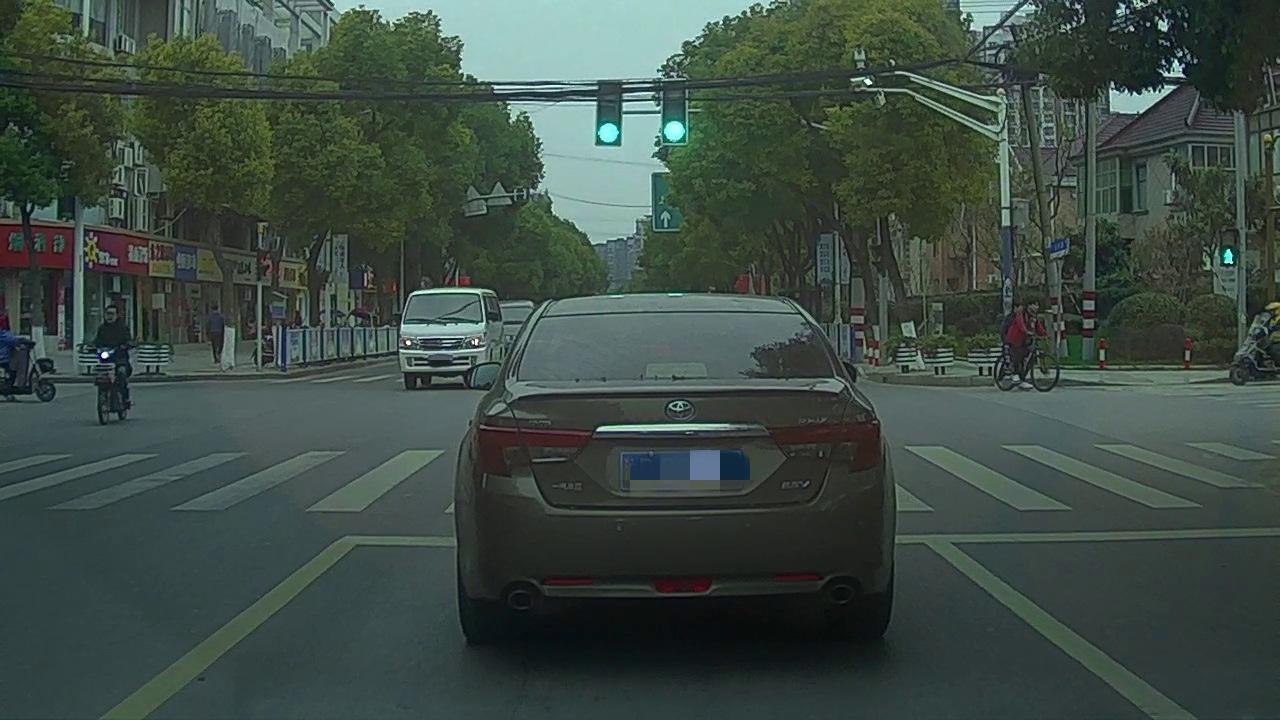traffic_light: (600, 78, 623, 143), (665, 81, 689, 142)
